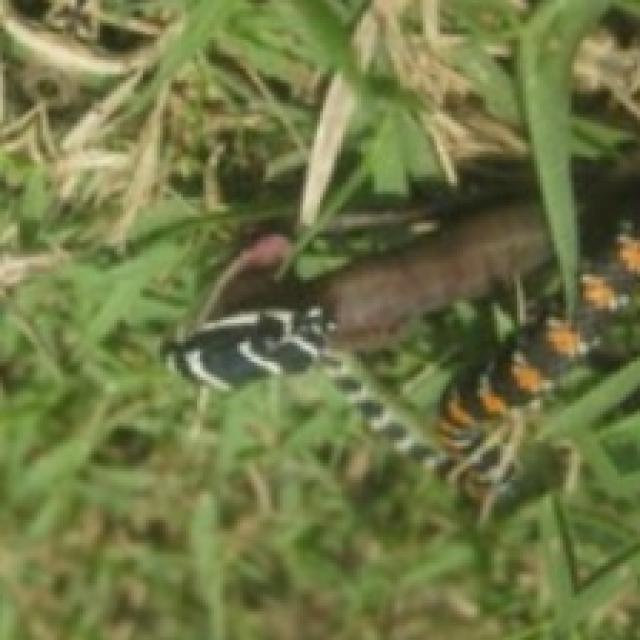paradise tree snake: (169, 206, 637, 520)
